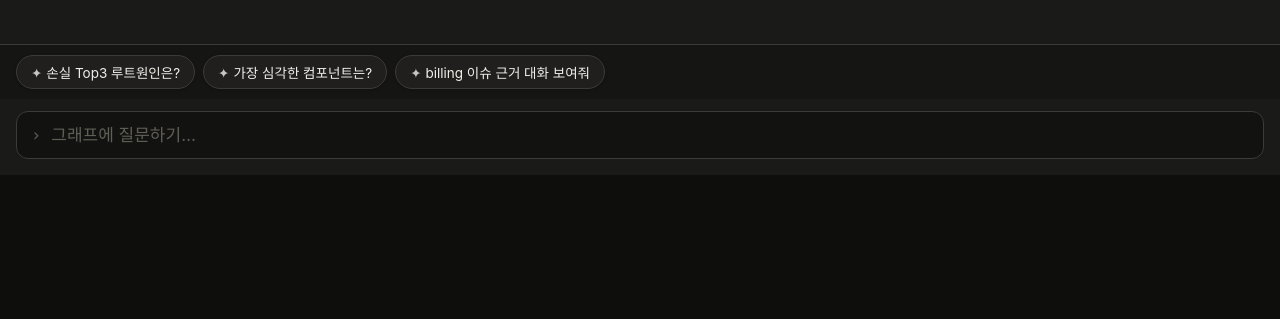
ChatStream › should append an error message and not crash when postChatFn rejects
Type "결제 실패 원인?" into the field with placeholder "그래프에 질문하기…".
click(649, 135); type("결제 실패 원인?")  # box [49, 124, 1249, 146]
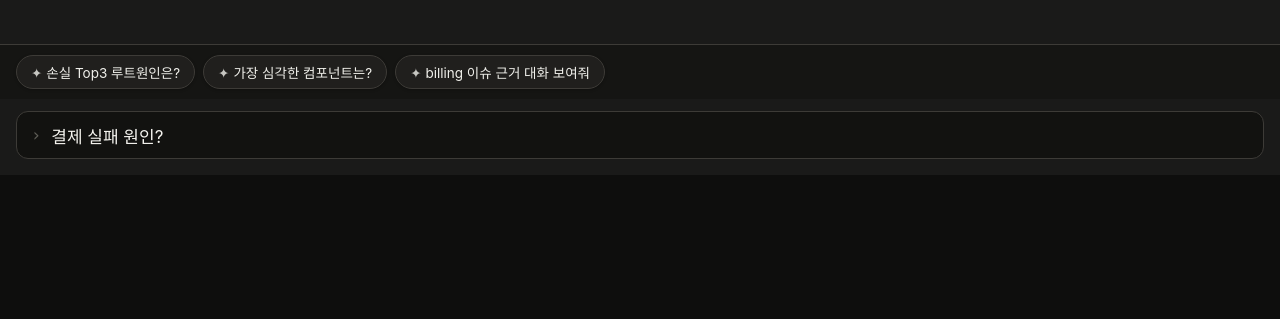
Submit the form with placeholder "질문", box [0, 99, 1279, 175]
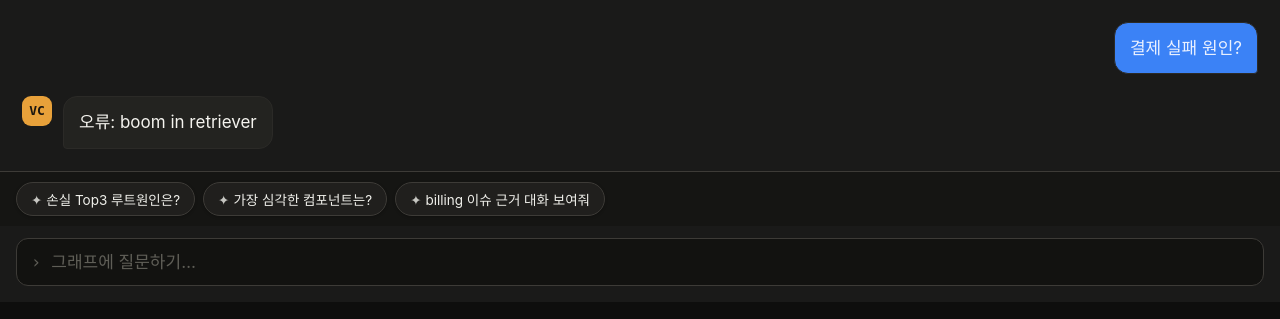
Check: the text "오류: boom in retriever" is shown, box [79, 109, 257, 136]
Check: the text "결제 실패 원인?" is shown, box [1114, 22, 1258, 74]
